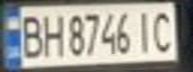4: (100, 9, 121, 55)
6: (115, 7, 136, 55)
7: (81, 9, 100, 56)
8: (63, 10, 84, 56)
B: (15, 11, 45, 60)
C: (148, 7, 178, 54)
H: (39, 10, 66, 58)
I: (133, 7, 157, 54)
